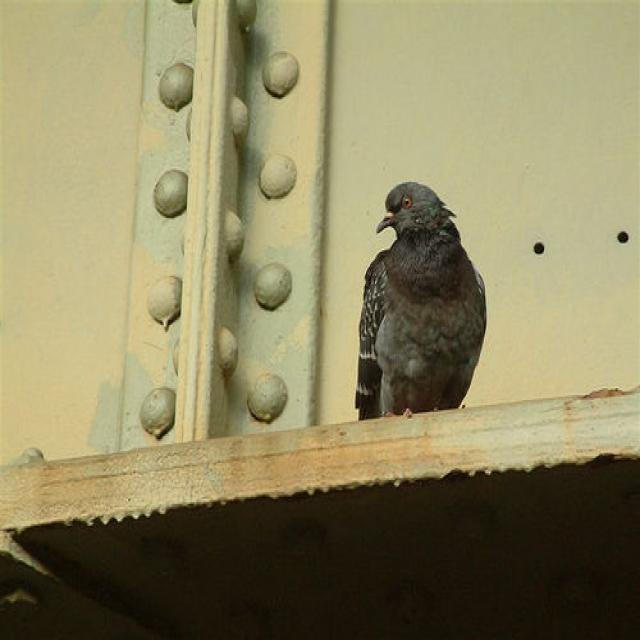bird: (356, 175, 494, 422)
